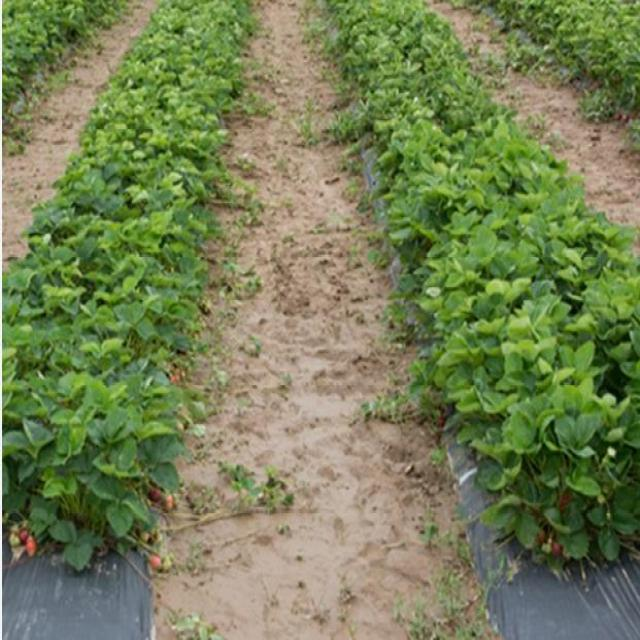row: (151, 0, 506, 640), (433, 1, 640, 282), (1, 2, 157, 296)
